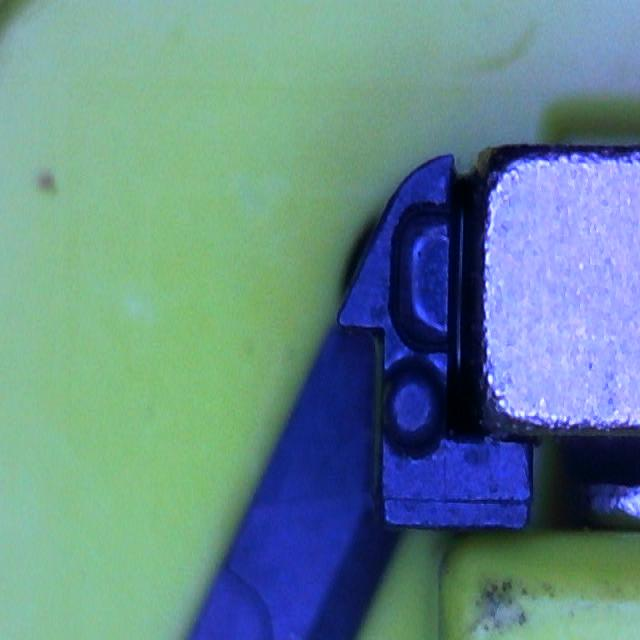good: (392, 204, 460, 358)
